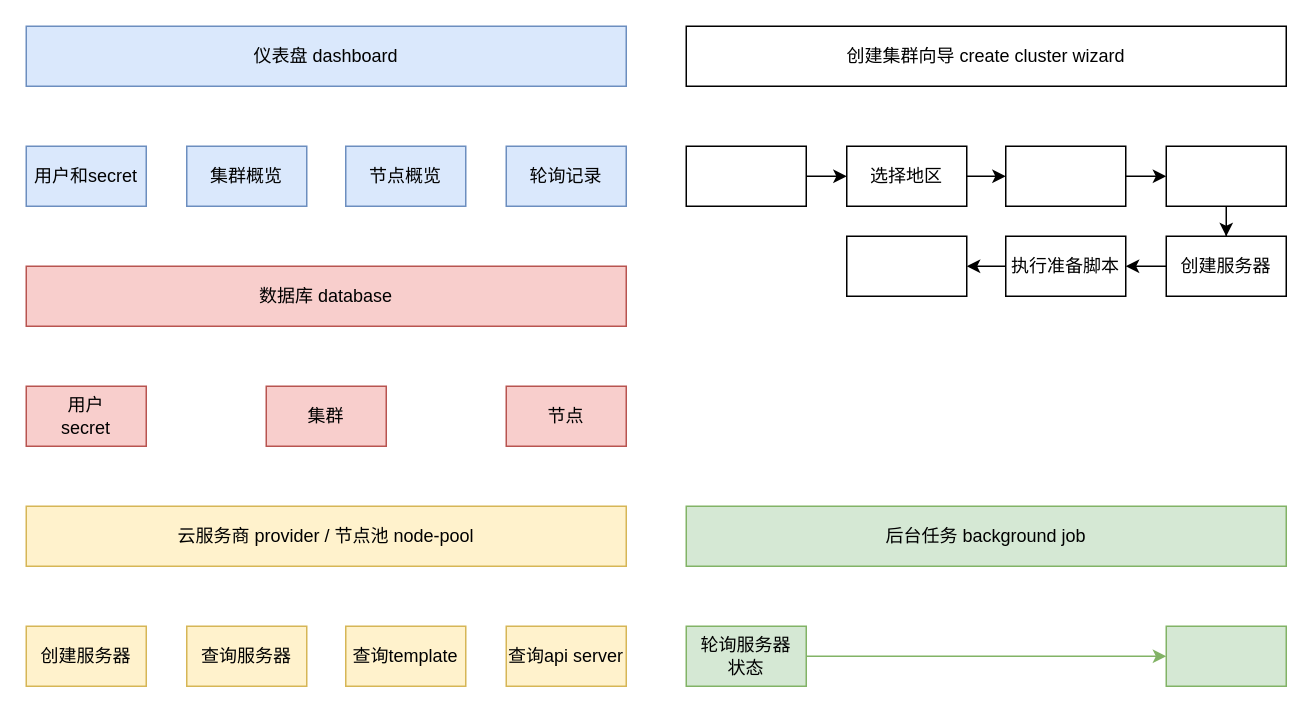
Image size: 1313x713. Some labels were removed from this diagram. Here are the shapes that lost their labels. From the top down, the box of each, then its label:
(685, 145, 806, 206): secret
(1004, 145, 1126, 206): 选择template
(1165, 145, 1286, 206): 配置连接方式
(845, 235, 967, 296): 组建集群
(1165, 625, 1286, 686): 重建集群
